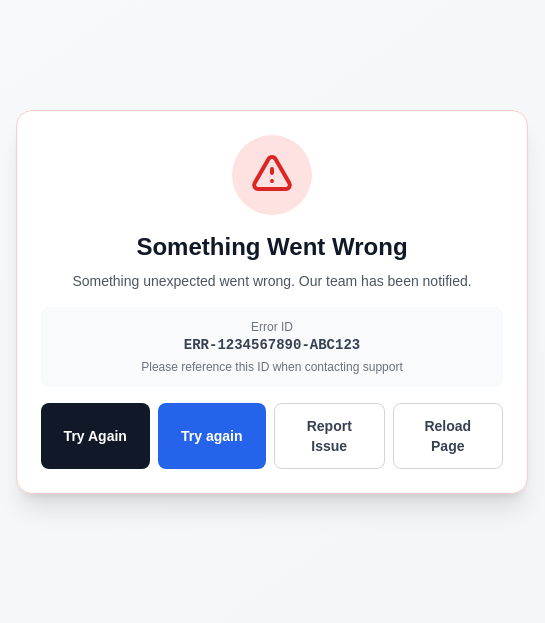
Test: ErrorBoundary › Error Reporting › should show feedback form when Report Issue is clicked
This screenshot has width=545, height=623.
Click the button "Report Issue".
click(329, 436)  # box [274,403,384,469]
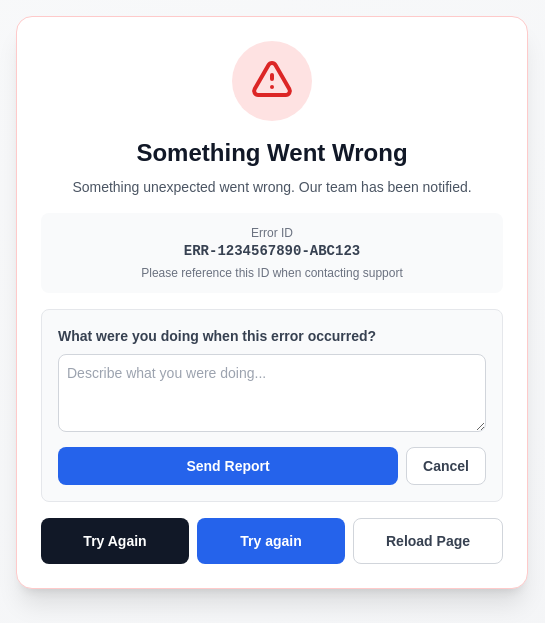
expect the text "What were you doing when this error occurred?" is shown: met, box [58,328,376,344]
expect the text box with placeholder "Describe what you were doing..." is shown: met, box [58,354,486,432]
